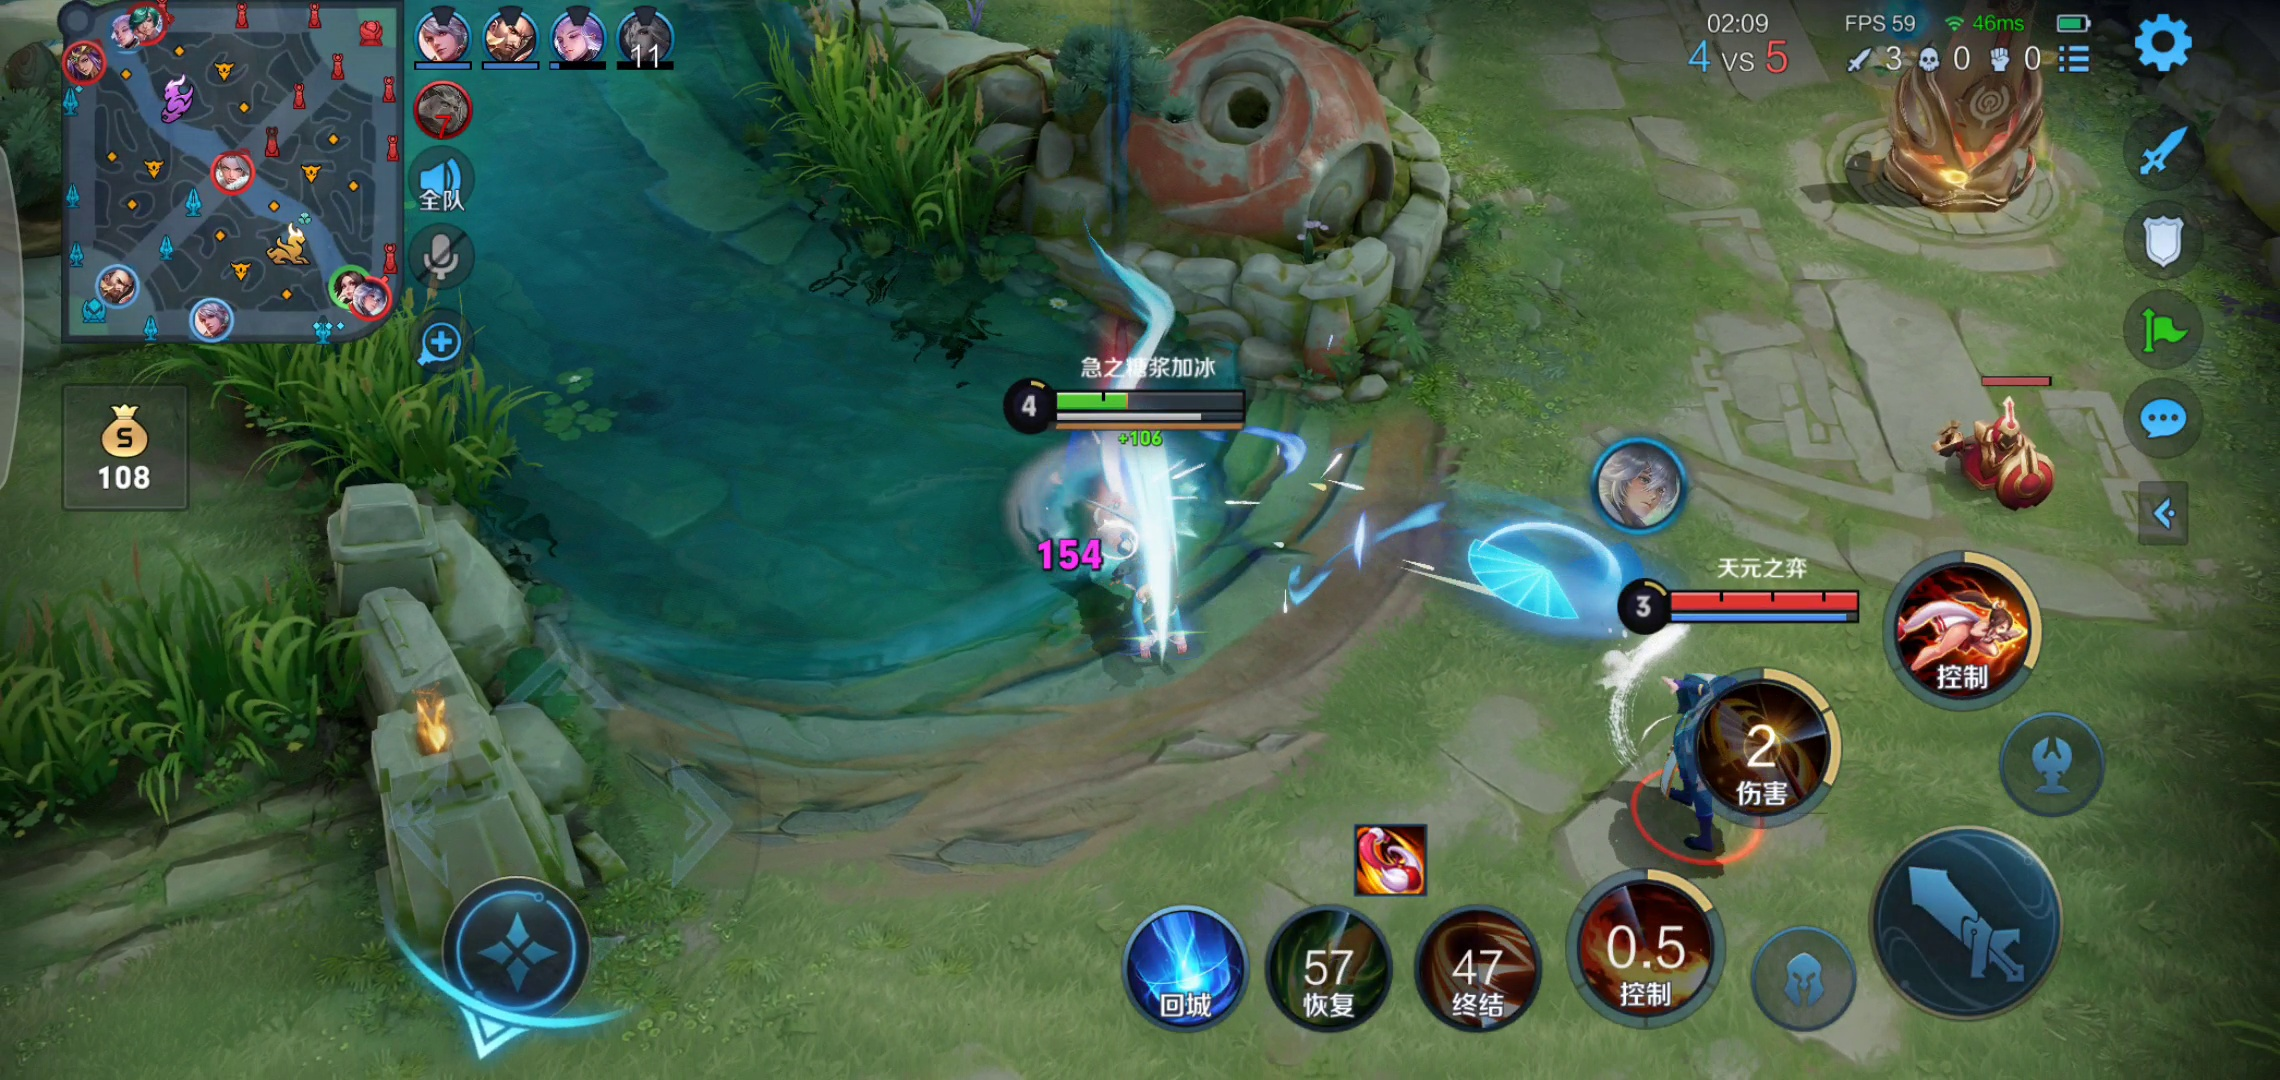grass: (201, 279, 537, 512), (1, 605, 368, 813), (742, 19, 1018, 283)
hero: (995, 427, 1248, 688), (1626, 647, 1762, 855)
soldier: (1916, 376, 2079, 528)
tower: (1868, 1, 2076, 227)
